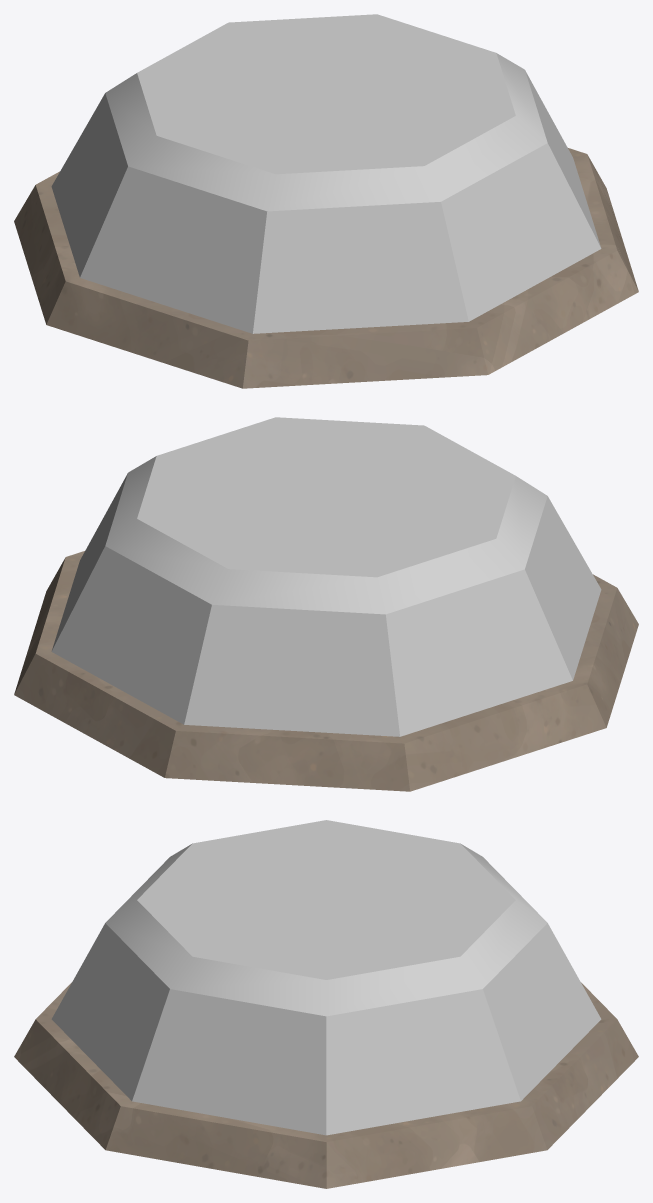
File: Pillar_1.fbx
3 views of the same model, one above another, from view 1: azimuth 30°, elevation 25°; view 2: azimuth 150°, elevation 25°; view 3: azimuth 270°, elevation 25° (orthographic). The views are drawn at different scales.
Visible parts, largest first — view 1: _Pillar_1; view 2: _Pillar_1; view 3: _Pillar_1.
Boxes of the visible parts, x1=… form: _Pillar_1: x1=14, y1=14, x2=638, y2=388; _Pillar_1: x1=14, y1=417, x2=638, y2=791; _Pillar_1: x1=14, y1=820, x2=638, y2=1188.
Size of the model in its own units: 177 by 49.14 by 177.
